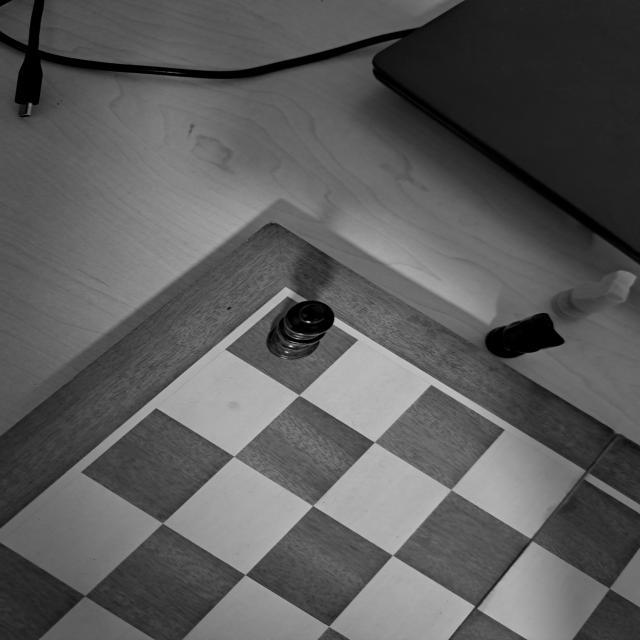chess-table-corners: (260, 278, 316, 318)
